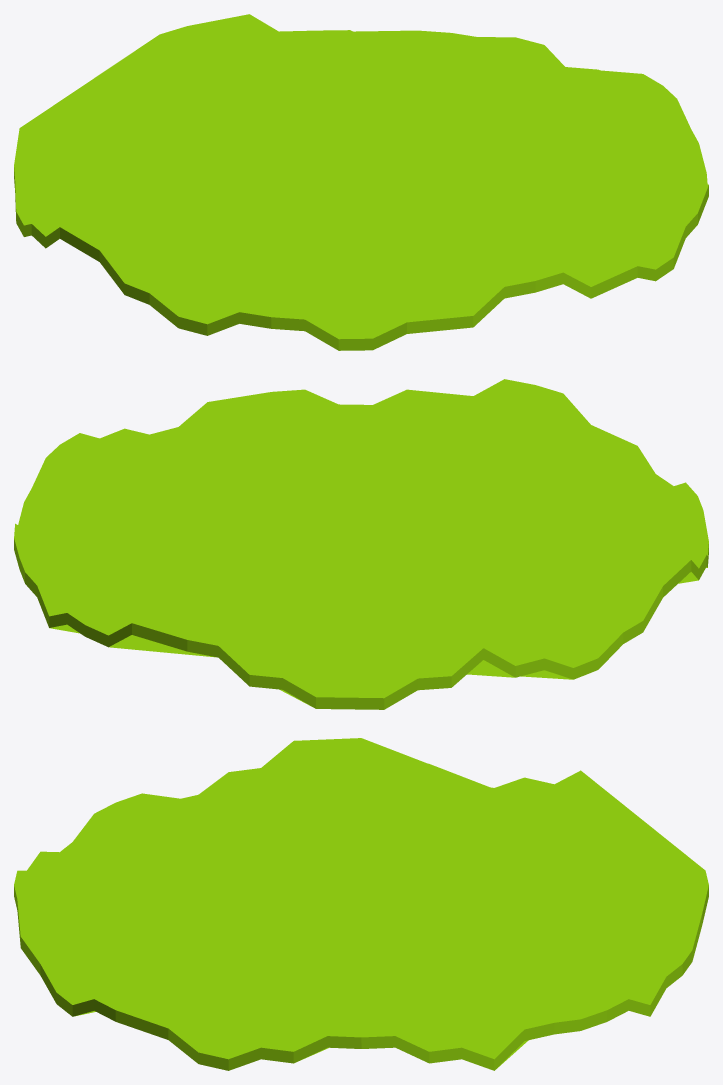
The model's file is Lettuce.obj.
3 renders of one model, top to bottom at view 1: azimuth 30°, elevation 25°; view 2: azimuth 150°, elevation 25°; view 3: azimuth 270°, elevation 25°, orthographic.
Parts seen in each view (by area): view 1: Circle; view 2: Circle; view 3: Circle.
Boxes of the visible parts, x1=… form: Circle: x1=14, y1=14, x2=708, y2=350; Circle: x1=14, y1=379, x2=708, y2=709; Circle: x1=14, y1=738, x2=708, y2=1070.
Bounding box in the file's own units: 2 × 0.1647 × 2.
1 material, 1 textured.
